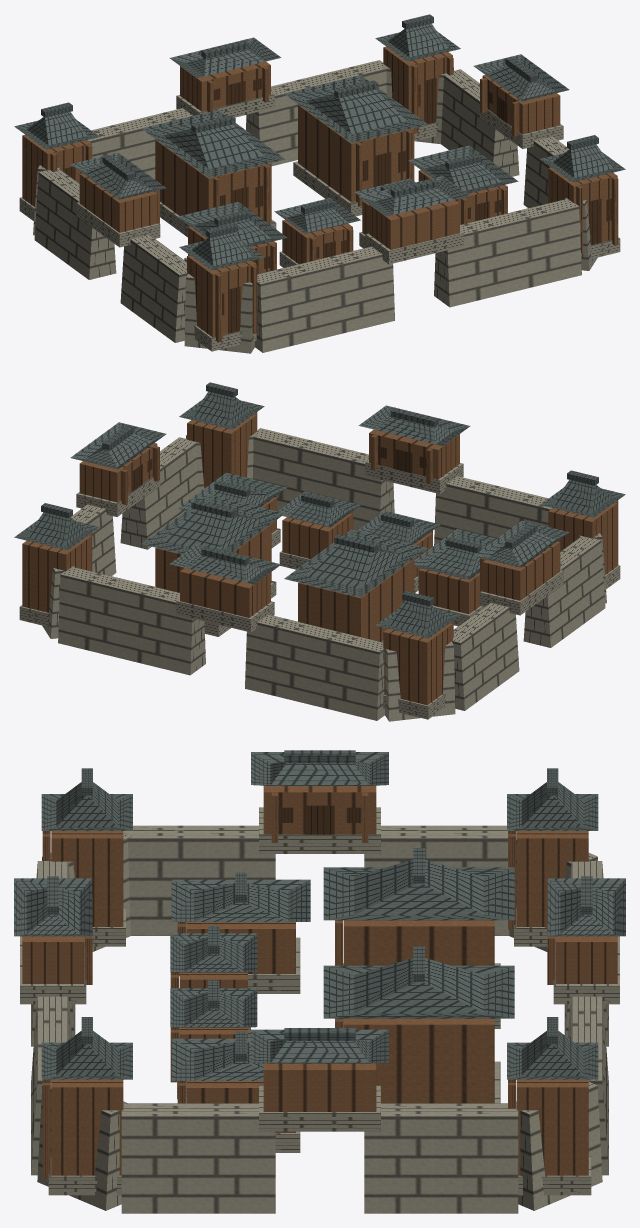
The model's file is city1-lod1.glb.
3 renders of one model, top to bottom at view 1: azimuth 30°, elevation 25°; view 2: azimuth 150°, elevation 25°; view 3: azimuth 270°, elevation 25°, orthographic. The views are drawn at different scales.
Bounding box in the file's own units: 2.15 × 0.561 × 1.79.
1 material, 1 textured.
